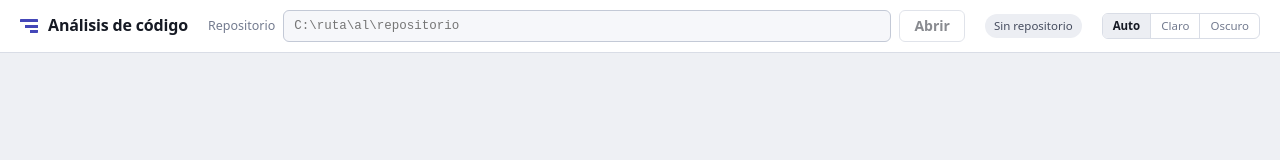
it: WorkspaceBar › un 400 workspace_not_writable explica el permiso que falta, con el detalle, y deja la ruta para corregirla
This screenshot has width=1280, height=160.
In the field labelled "Repositorio": (587, 26) [283,10,892,42], type "C:\\repos\\solo-lectura"
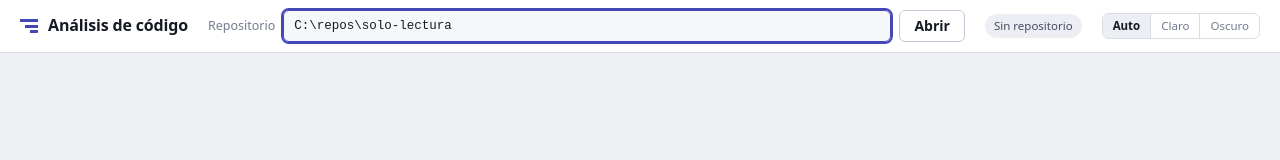
Click the button "Abrir": click(932, 26) [899,10,965,42]
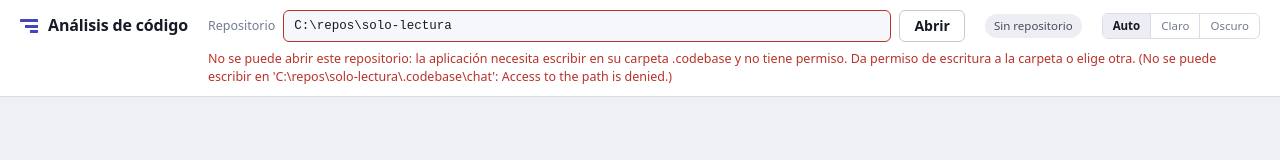
Expected: the list item "Sin repositorio" is shown, [985,14,1082,38]
Now the message shows "No se puede abrir este repositorio: la aplicación necesita escribir en su carpeta .codebase", box [208,50,1216,85]
